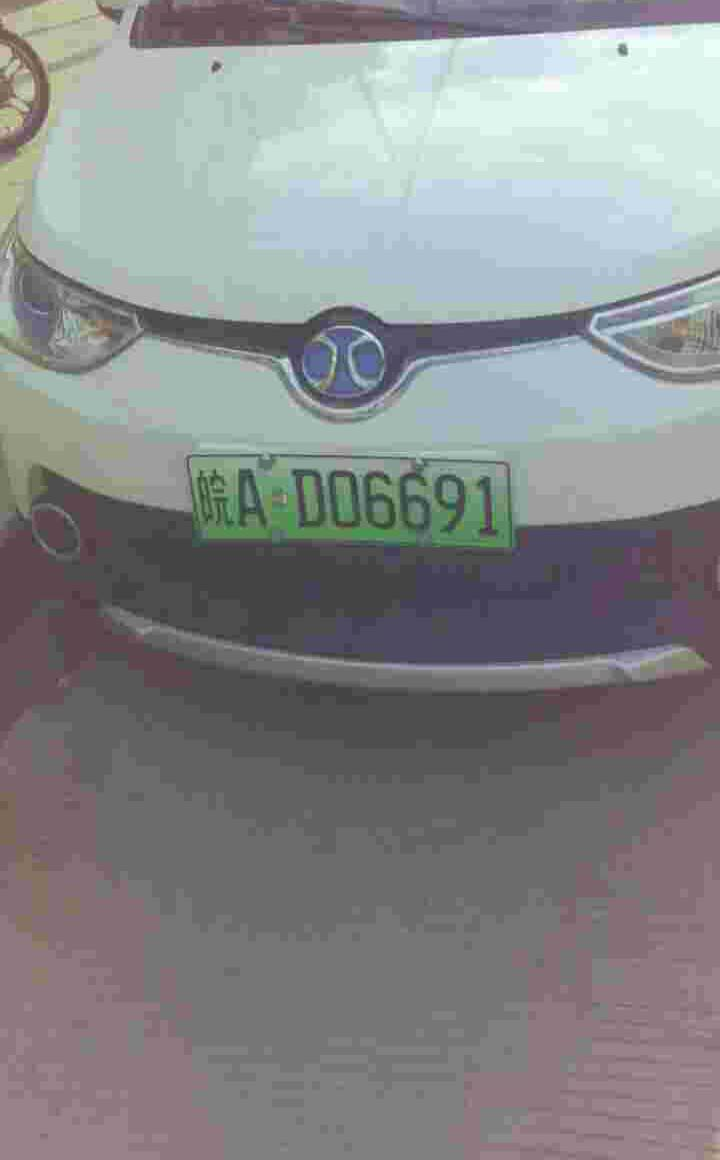car_id: (186, 453, 510, 543)
